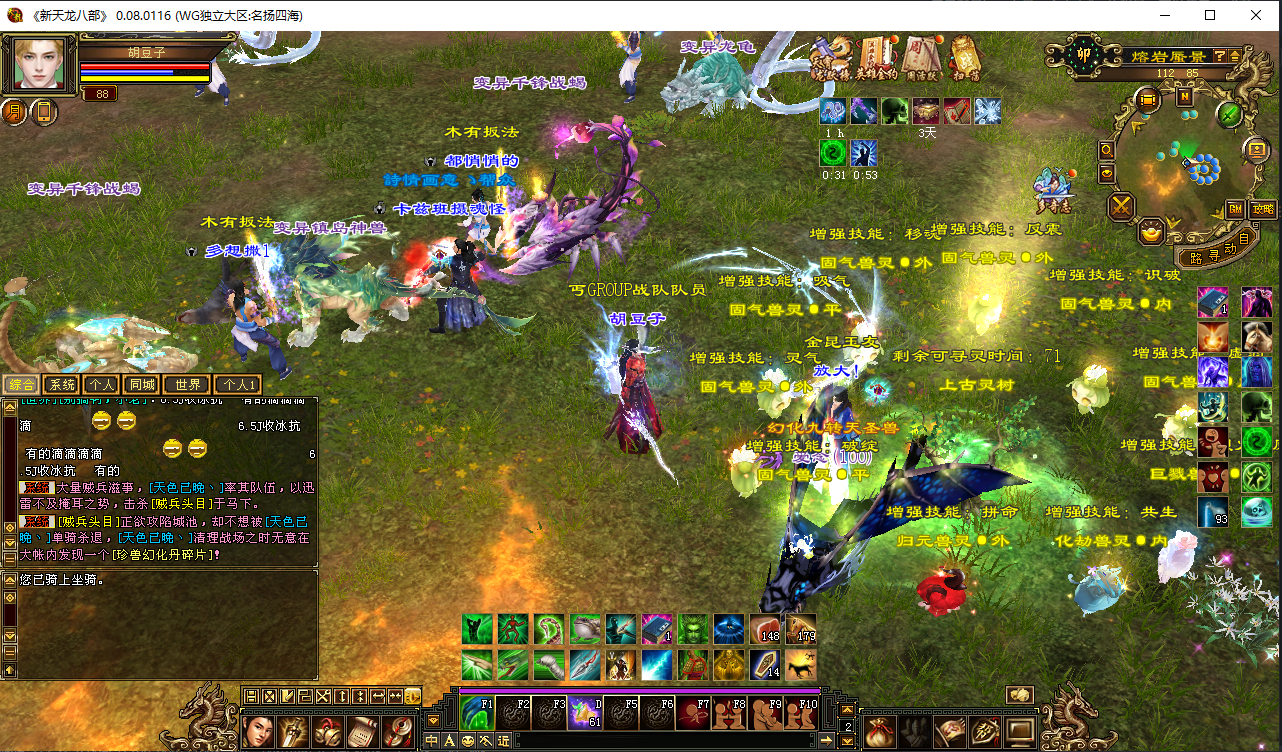cheap: (666, 335, 833, 517), (1039, 254, 1181, 424), (914, 203, 1064, 344), (1038, 494, 1174, 641)
expensive: (874, 486, 1026, 635)
